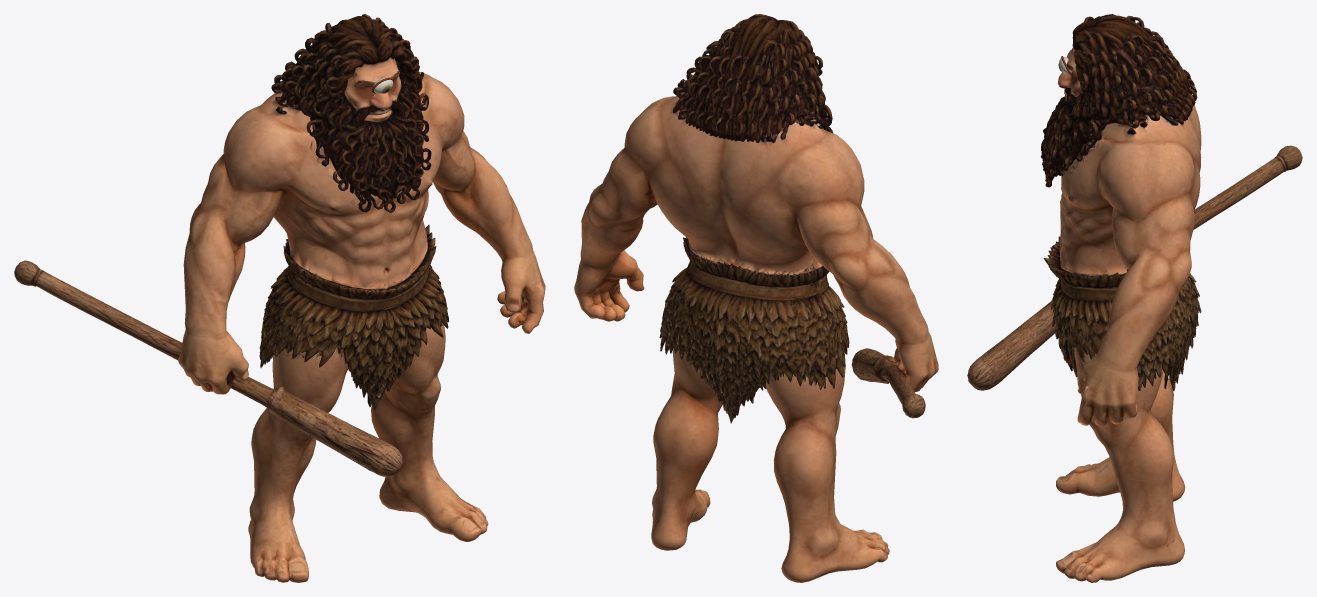
The model's file is polyphemus.glb.
The picture shows the model from 3 angles, left to right: view 1: azimuth 30°, elevation 25°; view 2: azimuth 150°, elevation 25°; view 3: azimuth 270°, elevation 25°; orthographic projection. The views are drawn at different scales.
Visible parts, largest first — view 1: mesh; view 2: mesh; view 3: mesh.
Part boxes in pixels (bbox=[...]): mesh: bbox=[14, 14, 545, 582]; mesh: bbox=[574, 14, 938, 582]; mesh: bbox=[967, 14, 1302, 582].
Size of the model in its own units: 1.73 by 2 by 1.18.
5 materials, 1 textured.
